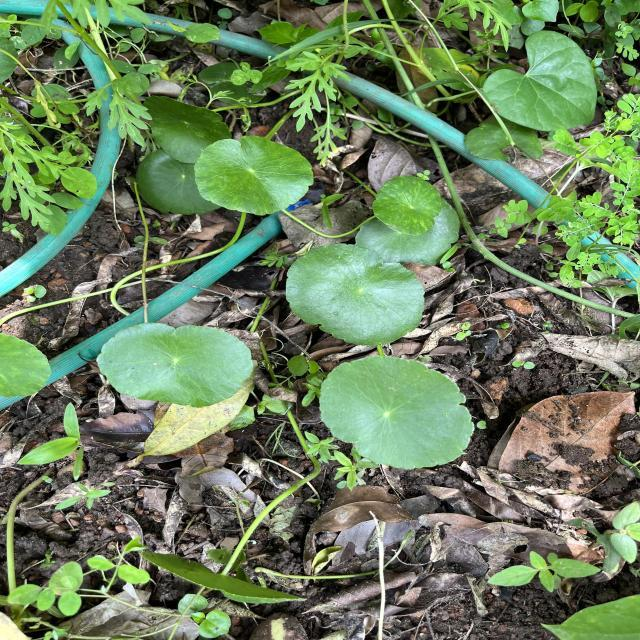Bacopa monnieri: (316, 354, 478, 472), (282, 239, 428, 349), (95, 319, 255, 410), (192, 134, 316, 218), (369, 174, 444, 238)
